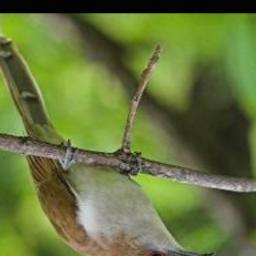Cuckoo: (0, 35, 217, 256)
